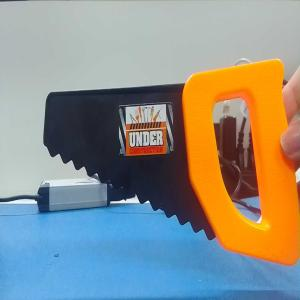serrote: (42, 58, 286, 267)
